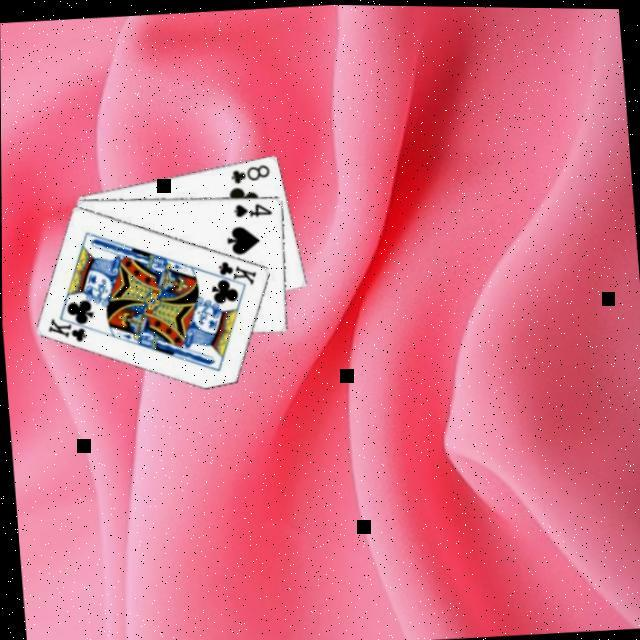4S: (228, 198, 274, 222)
8C: (226, 159, 272, 187)
KC: (43, 311, 96, 347), (207, 256, 259, 290)
